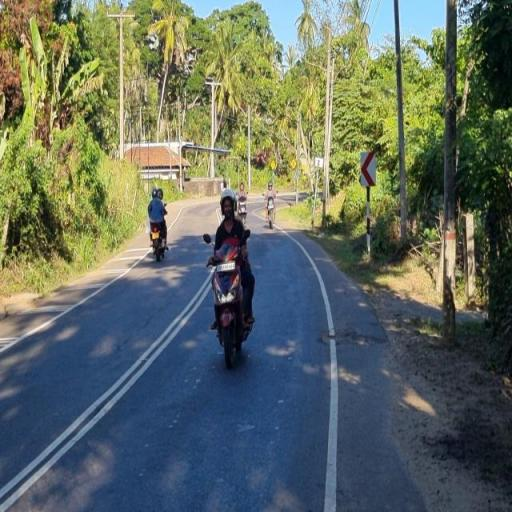double_white_line: (0, 273, 210, 512)
